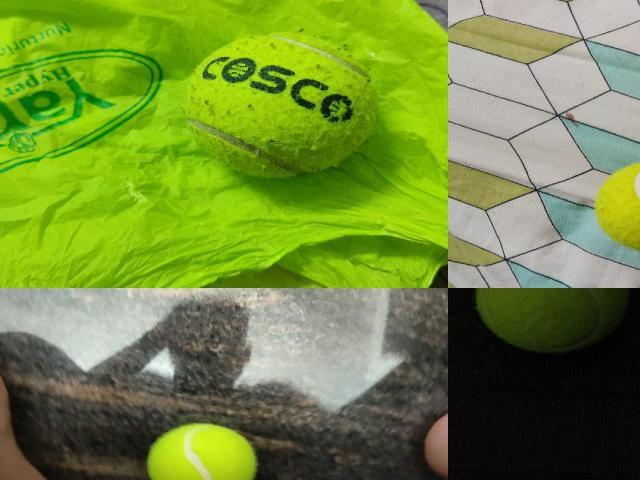tennis-ball: (180, 31, 378, 179), (475, 288, 629, 353), (145, 422, 258, 480), (595, 161, 639, 255)
